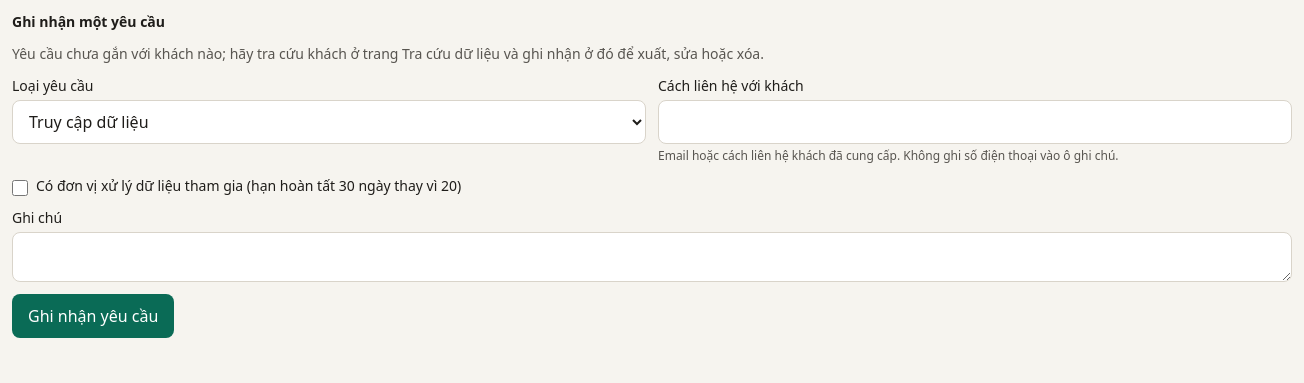
the request form › refuses an empty contact and submits nothing
Click the button with test id "privacy-form-submit" at (93, 316), box [12,294,174,338]
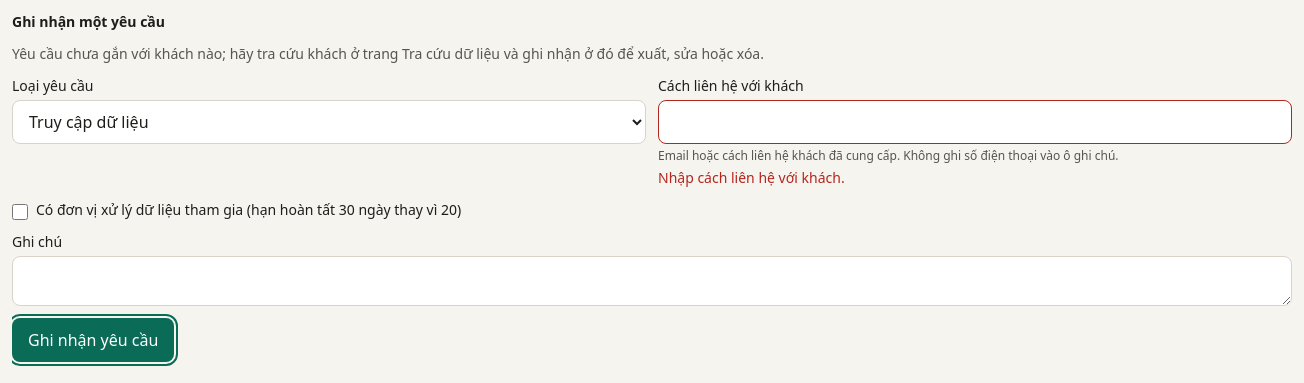
Now the text "Nhập cách liên hệ với khách." is shown, box [658,168,845,187]
